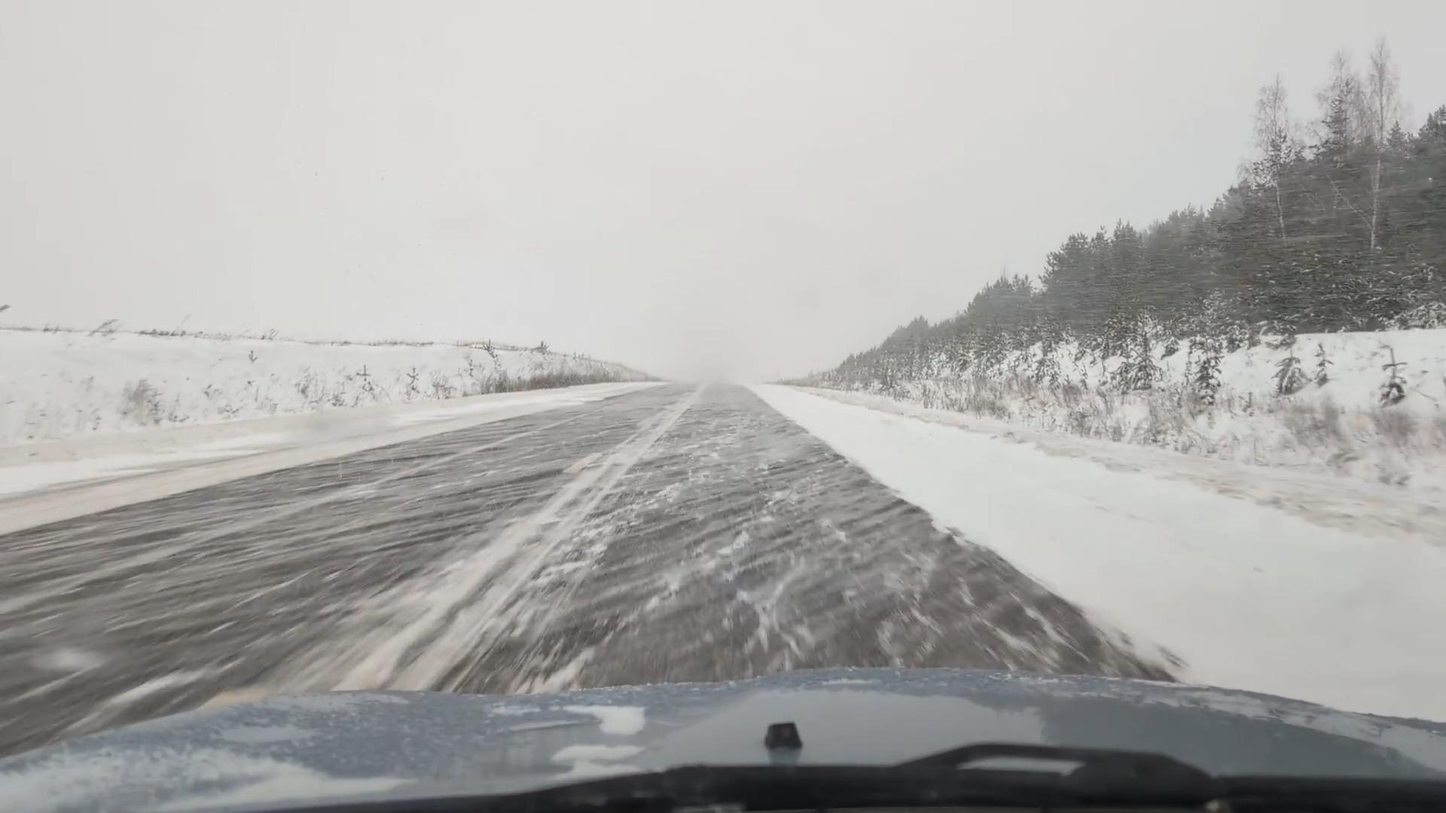Snow: (0, 378, 1185, 755)
